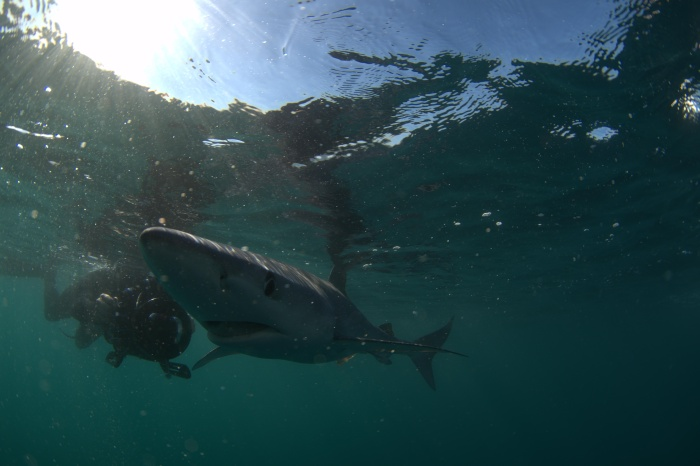Azul: (145, 196, 476, 414)
